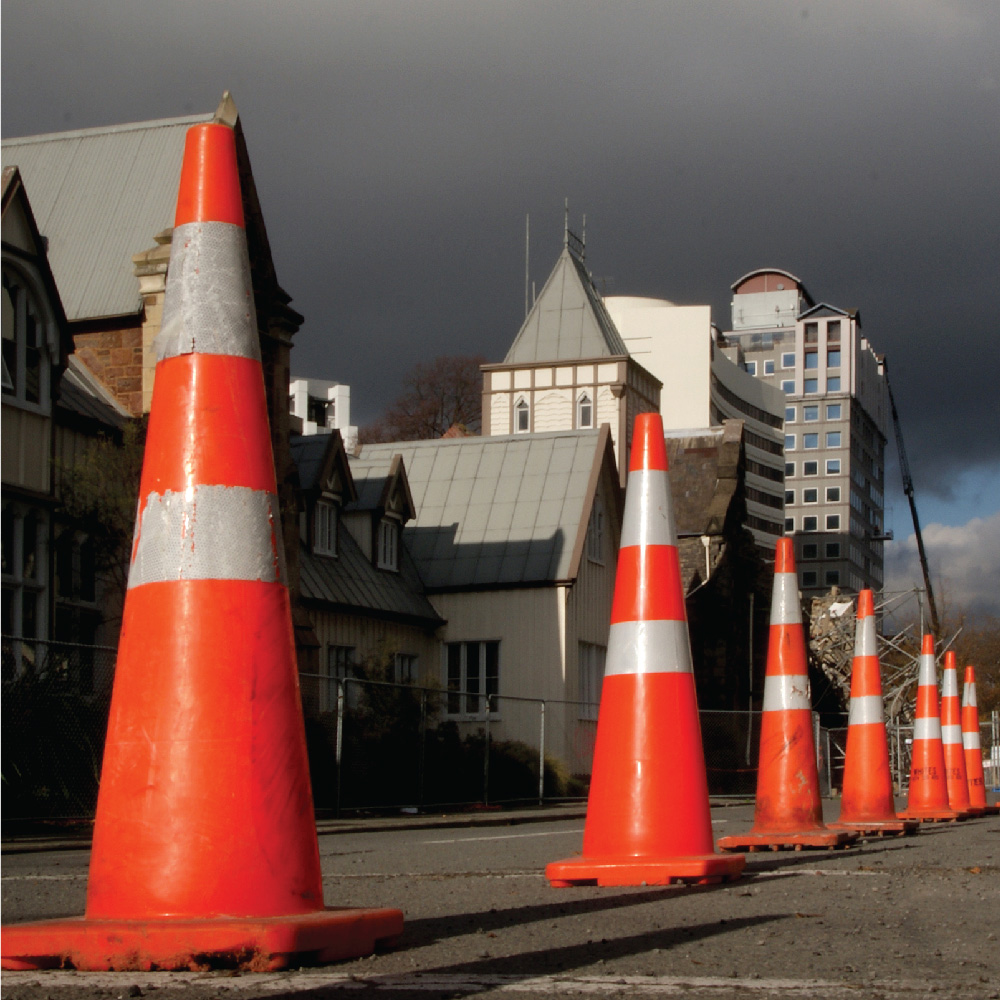Road_cone: (33, 126, 402, 964), (574, 383, 746, 889), (727, 534, 846, 852), (830, 580, 914, 839), (894, 619, 960, 832), (941, 649, 992, 816)
